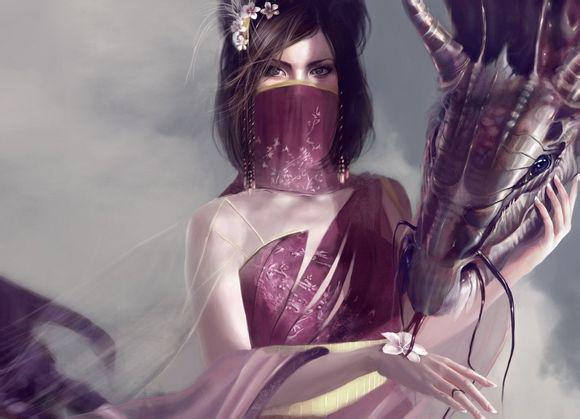OK: (253, 49, 357, 153)
